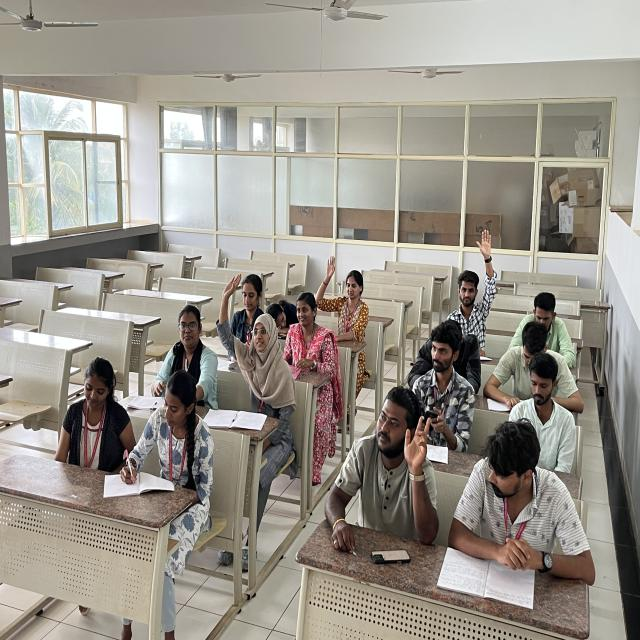Hand Rising: (330, 369, 439, 525), (200, 258, 294, 419), (445, 205, 505, 339), (314, 249, 376, 345)
Reading: (483, 313, 578, 413)
Using Phone: (398, 314, 483, 437)
Writing: (117, 364, 218, 504)
